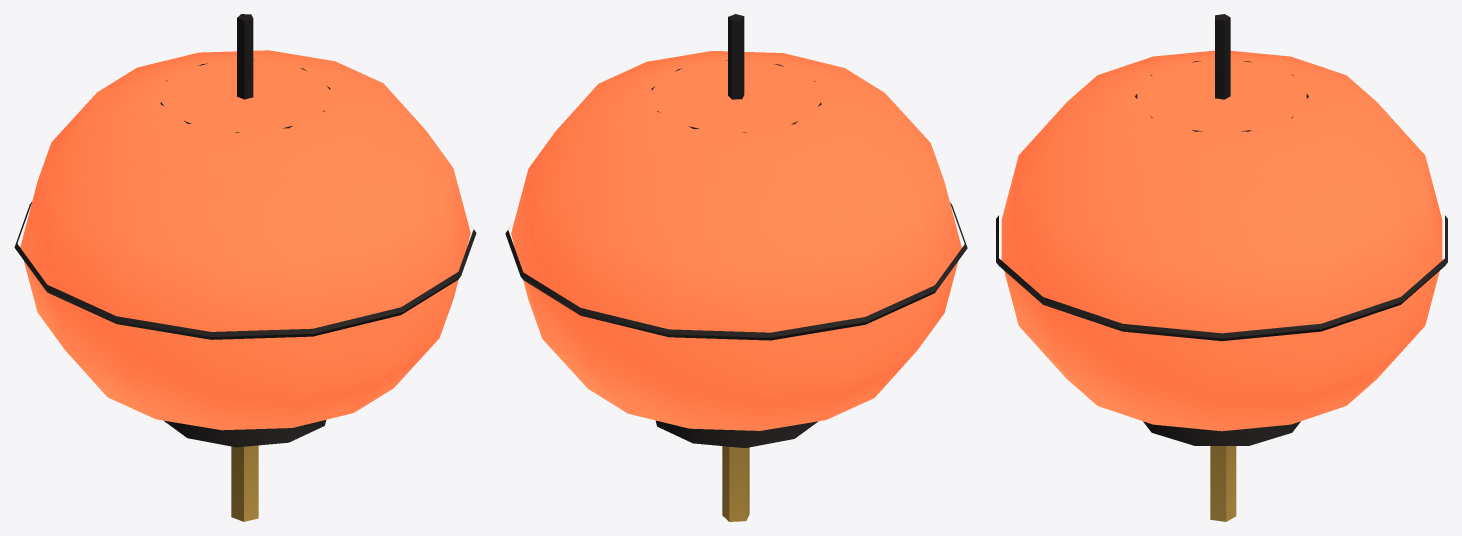
The model's file is prop.bamboo_lantern_hang.glb.
3 views of the same model, side by side, from view 1: azimuth 30°, elevation 25°; view 2: azimuth 150°, elevation 25°; view 3: azimuth 270°, elevation 25° (orthographic).
Visible parts, largest first — view 1: bamboo_lantern_hang; view 2: bamboo_lantern_hang; view 3: bamboo_lantern_hang.
Part boxes in pixels (<box>): bamboo_lantern_hang: <box>14,14,476,521</box>; bamboo_lantern_hang: <box>505,14,967,521</box>; bamboo_lantern_hang: <box>996,14,1447,521</box>.
Bounding box in the file's own units: 1.6 × 1.9 × 1.56.
